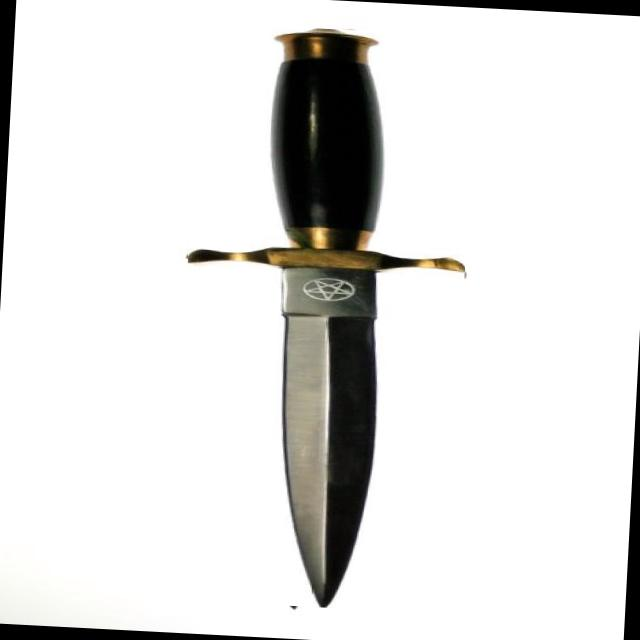Knife: (188, 30, 465, 608)
